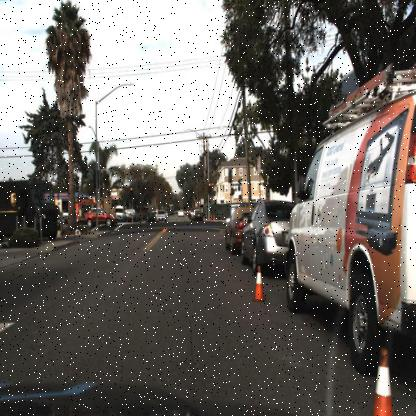car: (281, 62, 415, 381), (239, 197, 292, 282), (223, 206, 256, 256), (83, 202, 116, 228), (155, 206, 169, 223)
trafficLight-Green: (206, 180, 212, 197)
trafficLight-Red: (128, 184, 134, 202)
truck: (0, 167, 67, 247)
